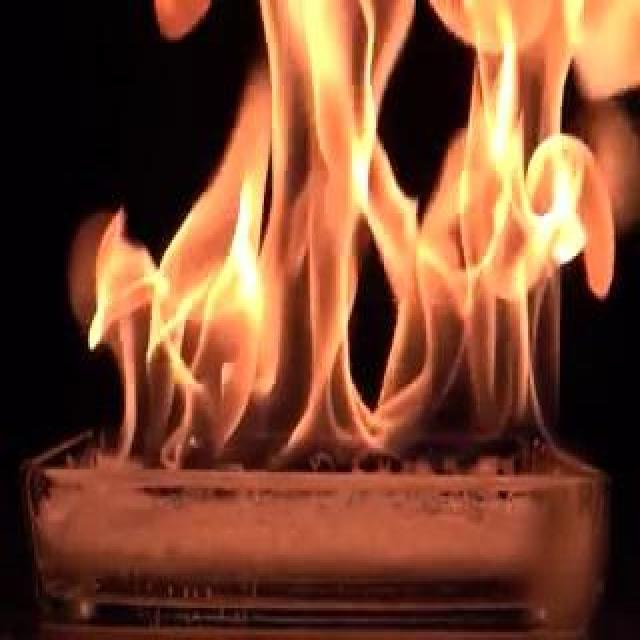Fire: (72, 2, 578, 482)
